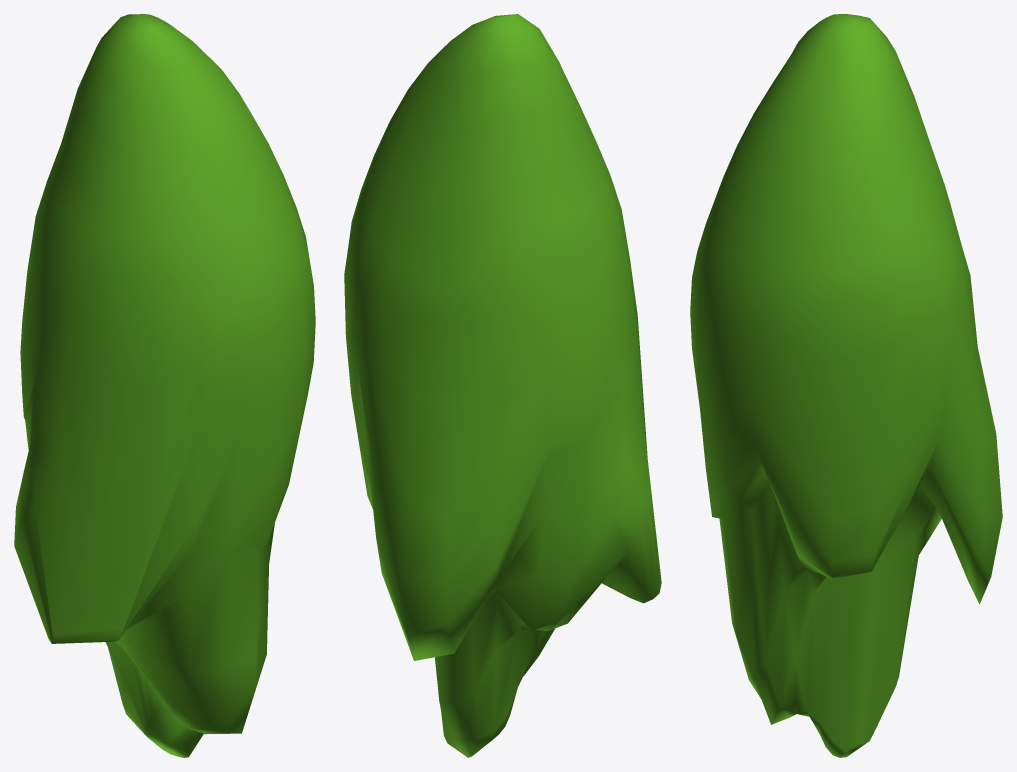
File: Slime.fbx
3 renders of one model, left to right at view 1: azimuth 30°, elevation 25°; view 2: azimuth 150°, elevation 25°; view 3: azimuth 270°, elevation 25°, orthographic. The views are drawn at different scales.
Parts seen in each view (by area): view 1: pSphere1; view 2: pSphere1; view 3: pSphere1.
Part boxes in pixels (x1,y1,x2,y2): pSphere1: (14,14,315,757); pSphere1: (344,14,661,757); pSphere1: (690,14,1002,757).
Size of the model in its own units: 6.48 by 16.69 by 6.53.
